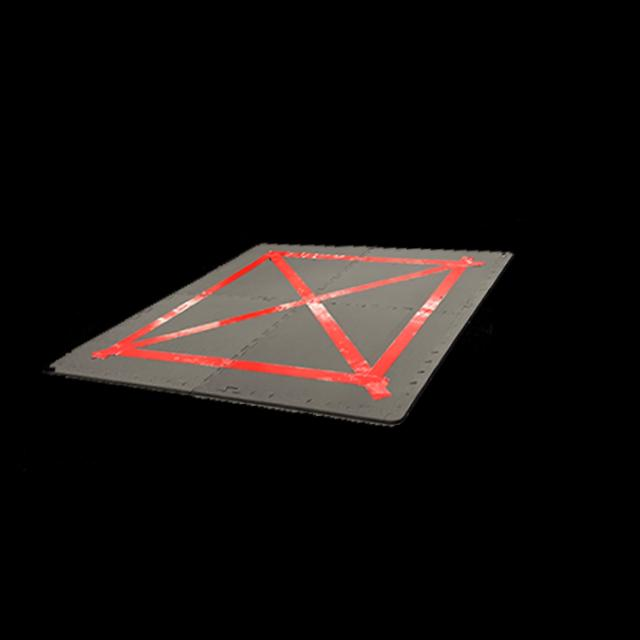landingPads: (52, 231, 526, 457)
